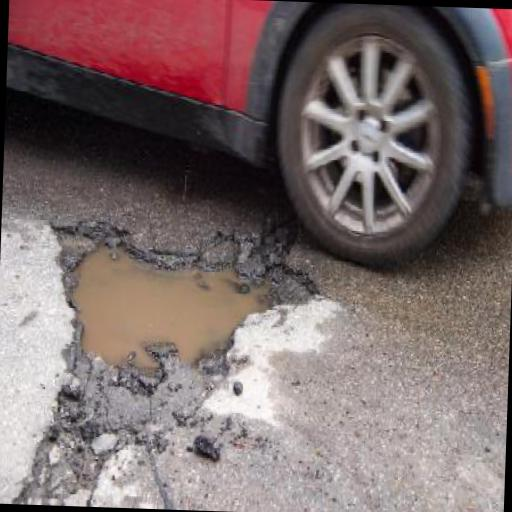pothole: (41, 213, 322, 383)
